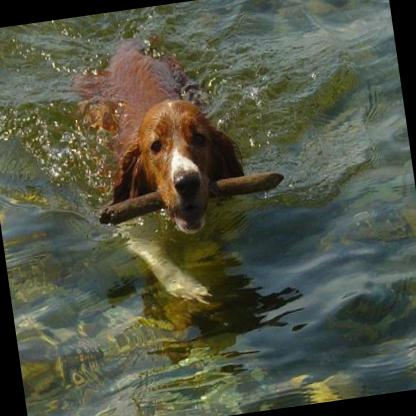Welsh_springer_spaniel: (64, 20, 262, 318)
